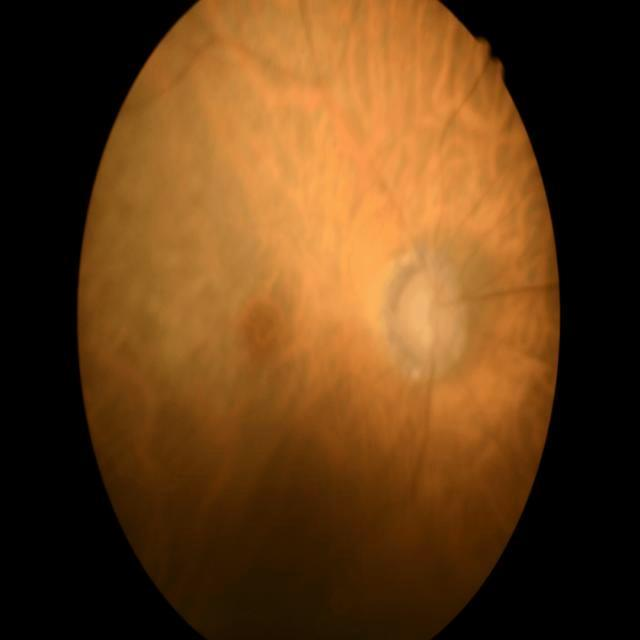cup: (402, 284, 442, 354)
disk: (388, 253, 470, 375)
